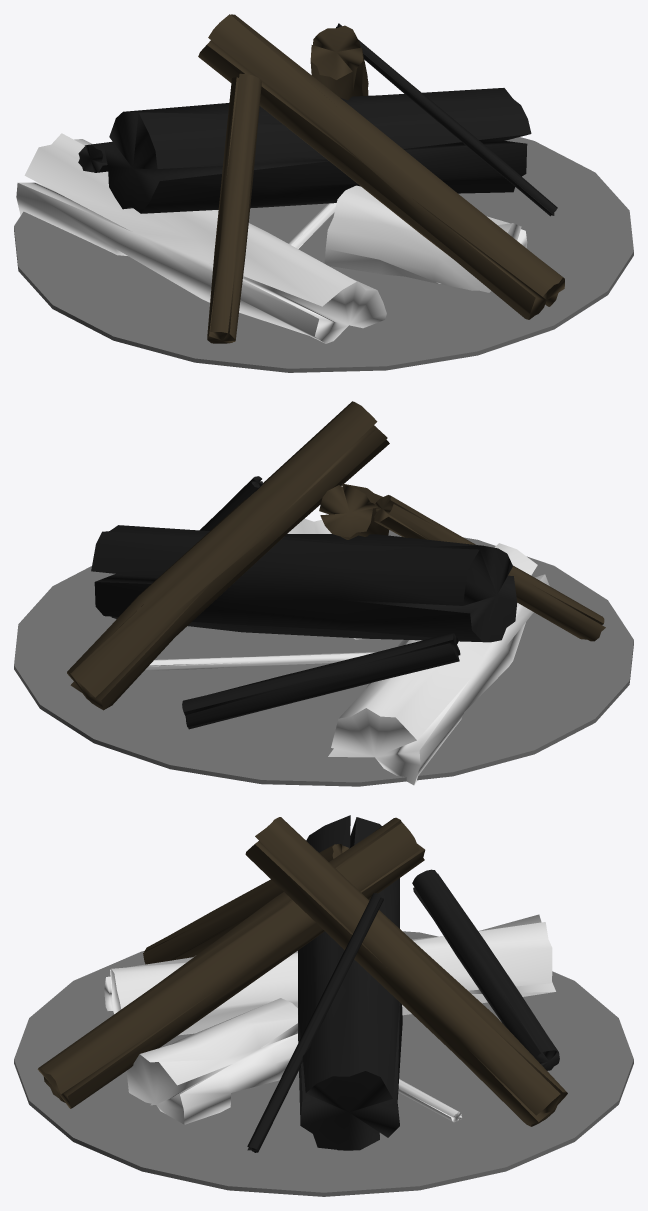
File: Campfire.fbx
3 renders of one model, top to bottom at view 1: azimuth 30°, elevation 25°; view 2: azimuth 150°, elevation 25°; view 3: azimuth 270°, elevation 25°, orthographic.
Visible parts, largest first — view 1: pCylinder9, pCylinder3, pasted__pCylinder3, pCylinder4, pasted__pCylinder7, pasted__pCylinder6, pasted__pCylinder4, pCylinder7, pCylinder5, pCylinder8; view 2: pCylinder9, pCylinder3, pasted__pCylinder4, pasted__pCylinder3, pCylinder5, pasted__pCylinder6, pCylinder4, pCylinder8, pCylinder7; view 3: pCylinder9, pasted__pCylinder4, pCylinder4, pCylinder3, pasted__pCylinder7, pasted__pCylinder3, pCylinder5, pasted__pCylinder6, pCylinder7, pCylinder8.
Part boxes in pixels (x1,y1,x2,y2): pCylinder9: [14, 137, 633, 372]; pCylinder3: [104, 88, 531, 213]; pasted__pCylinder3: [16, 133, 386, 343]; pCylinder4: [198, 14, 564, 319]; pasted__pCylinder7: [324, 185, 527, 292]; pasted__pCylinder6: [207, 73, 261, 343]; pasted__pCylinder4: [310, 25, 368, 100]; pCylinder7: [336, 23, 557, 216]; pCylinder5: [78, 141, 114, 172]; pCylinder8: [288, 203, 336, 248]; pCylinder9: [14, 530, 633, 786]; pCylinder3: [91, 525, 517, 642]; pasted__pCylinder4: [67, 401, 389, 710]; pasted__pCylinder3: [328, 543, 549, 785]; pCylinder5: [182, 632, 460, 729]; pasted__pCylinder6: [374, 495, 605, 641]; pCylinder4: [319, 483, 388, 539]; pCylinder8: [144, 652, 375, 670]; pCylinder7: [200, 476, 263, 530]; pCylinder9: [14, 931, 633, 1196]; pasted__pCylinder4: [245, 817, 567, 1126]; pCylinder4: [37, 817, 425, 1108]; pCylinder3: [298, 815, 402, 1150]; pasted__pCylinder7: [126, 998, 298, 1124]; pasted__pCylinder3: [104, 914, 555, 1035]; pCylinder5: [412, 869, 559, 1070]; pasted__pCylinder6: [143, 844, 348, 964]; pCylinder7: [247, 893, 383, 1152]; pCylinder8: [398, 1079, 461, 1122].
Bounding box in the file's own units: 133 × 58.01 × 130.
